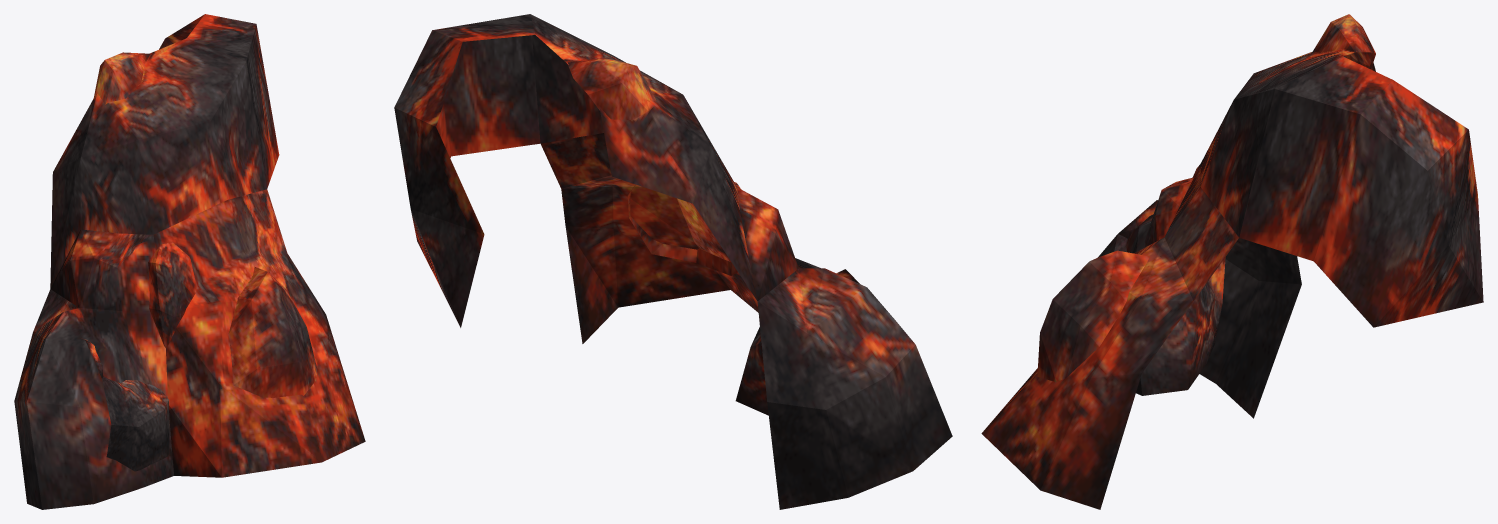
Rendered from sn_jingyanFB_shanshi01_05.FBX.
The picture shows the model from 3 angles, left to right: view 1: azimuth 30°, elevation 25°; view 2: azimuth 150°, elevation 25°; view 3: azimuth 270°, elevation 25°; orthographic projection. The views are drawn at different scales.
Visible parts, largest first — view 1: sn_jingyanFB_shanshi01_05; view 2: sn_jingyanFB_shanshi01_05; view 3: sn_jingyanFB_shanshi01_05.
Boxes of the visible parts, box(x1,y1,x2,y2) form: sn_jingyanFB_shanshi01_05: box(14, 14, 365, 509); sn_jingyanFB_shanshi01_05: box(394, 14, 952, 509); sn_jingyanFB_shanshi01_05: box(981, 14, 1483, 509).
Size of the model in its own units: 2204 by 2390 by 2416.
